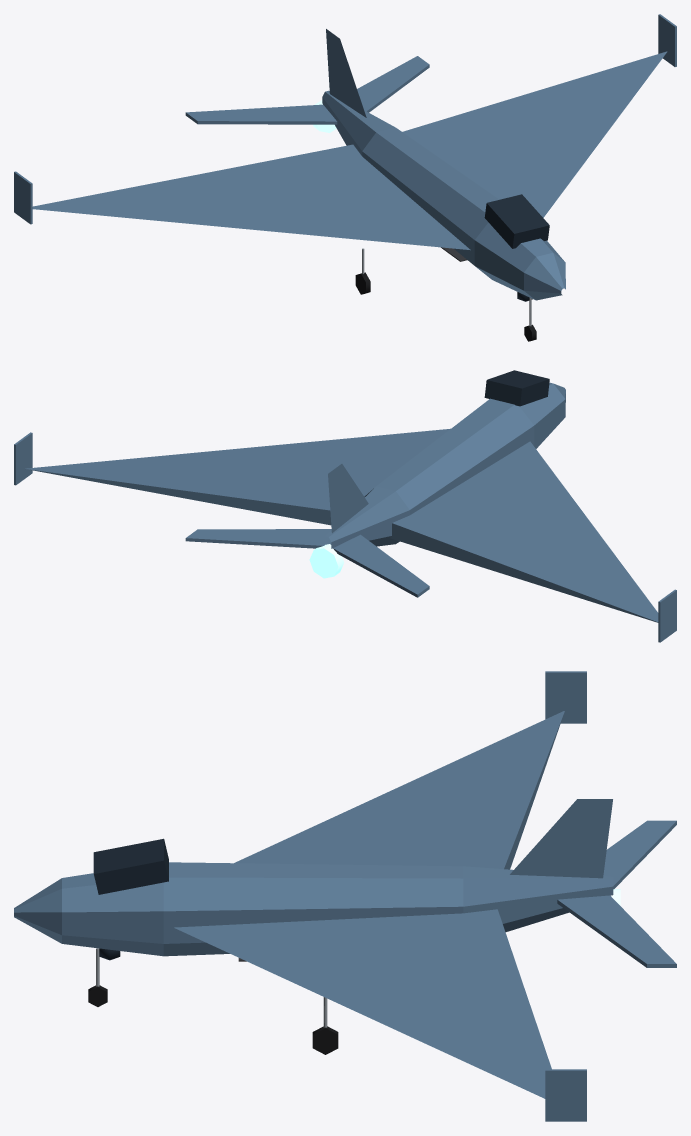
The model's file is veh_air_bomber_a10.glb.
3 renders of one model, top to bottom at view 1: azimuth 30°, elevation 25°; view 2: azimuth 150°, elevation 25°; view 3: azimuth 270°, elevation 25°, orthographic. The views are drawn at different scales.
Parts seen in each view (by area): view 1: body; view 2: body; view 3: body, gear_2.
Boxes of the visible parts, x1,y1,x2,y2 form: body: [14, 14, 676, 301]; body: [14, 370, 676, 642]; body: [14, 671, 676, 1121]; gear_2: [312, 997, 338, 1054].
Size of what is drawn, in the model's own units: 25.38 by 6.15 by 17.81.
